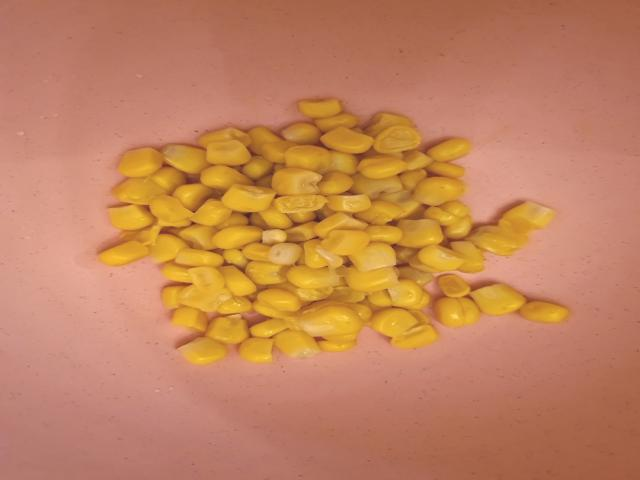kichen waste: (92, 98, 570, 362)
